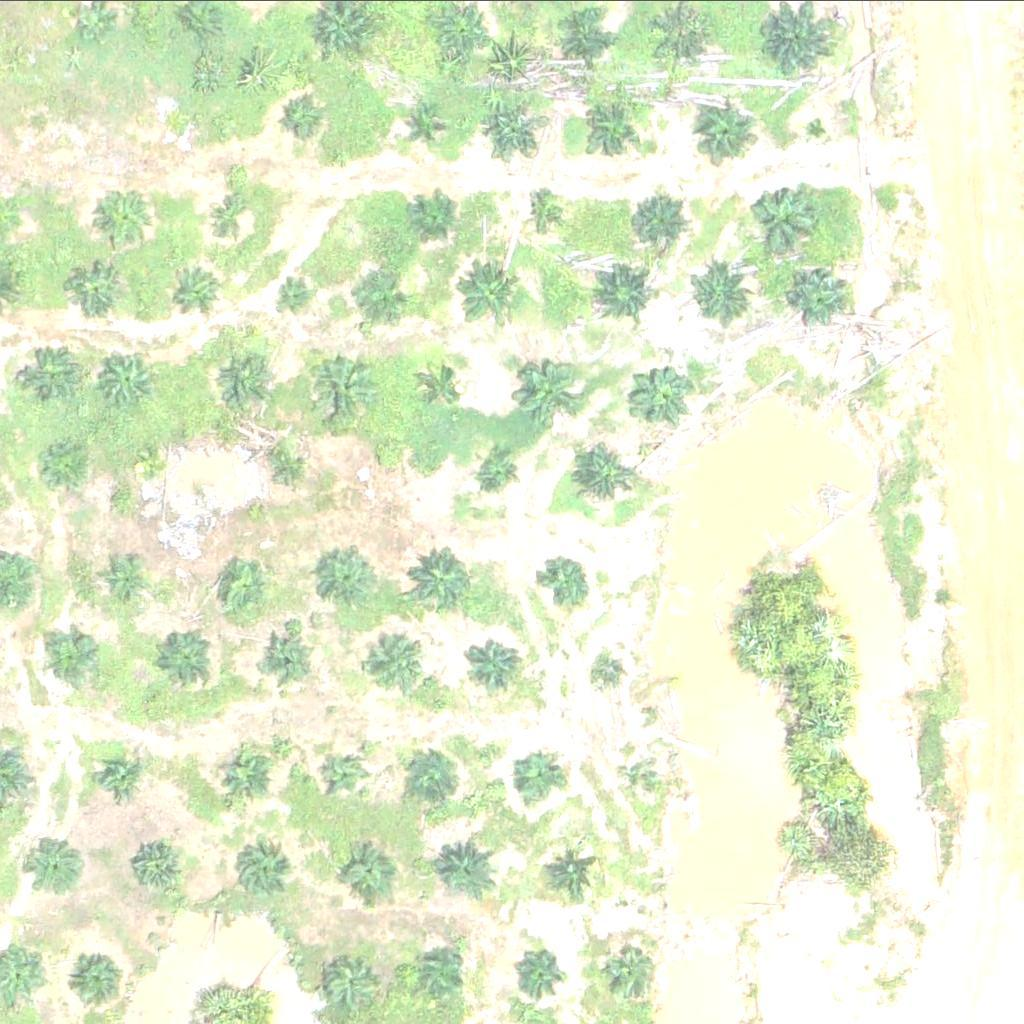Kelapa_Sawit: (297, 348, 373, 423), (759, 1, 835, 76), (746, 187, 822, 262), (476, 100, 539, 163), (517, 363, 580, 426), (22, 341, 85, 404), (440, 838, 503, 901), (694, 266, 757, 329), (626, 367, 689, 430), (695, 99, 758, 162), (791, 267, 854, 330), (458, 265, 521, 327), (406, 548, 469, 610), (369, 630, 432, 692), (214, 350, 277, 412), (316, 551, 379, 613), (69, 948, 132, 1010), (211, 744, 274, 806), (654, 1, 717, 63), (571, 445, 634, 507), (101, 345, 163, 407), (596, 260, 658, 322), (624, 193, 686, 255), (441, 7, 492, 57), (507, 753, 558, 803), (408, 749, 459, 799), (345, 851, 396, 901), (31, 840, 82, 890), (330, 957, 381, 1007), (413, 946, 464, 996), (511, 946, 562, 996), (550, 846, 601, 896), (132, 843, 183, 893), (96, 752, 147, 802), (563, 12, 613, 62), (473, 638, 523, 688), (540, 557, 590, 607), (257, 631, 307, 681), (51, 628, 101, 678), (161, 632, 211, 682), (34, 442, 84, 492), (69, 261, 119, 311), (101, 191, 151, 241), (364, 278, 414, 328), (217, 565, 267, 615), (235, 846, 285, 896), (586, 108, 636, 158), (411, 192, 461, 242), (420, 361, 470, 411), (477, 446, 527, 496), (260, 438, 310, 488), (612, 944, 662, 994), (173, 266, 223, 316), (107, 562, 145, 600), (532, 188, 570, 226), (275, 275, 313, 313), (169, 100, 207, 138), (211, 194, 249, 232), (407, 110, 445, 147), (283, 95, 320, 133), (324, 756, 362, 793), (73, 1, 110, 38), (593, 657, 618, 682), (135, 454, 160, 479), (370, 447, 395, 472), (627, 752, 652, 777)
